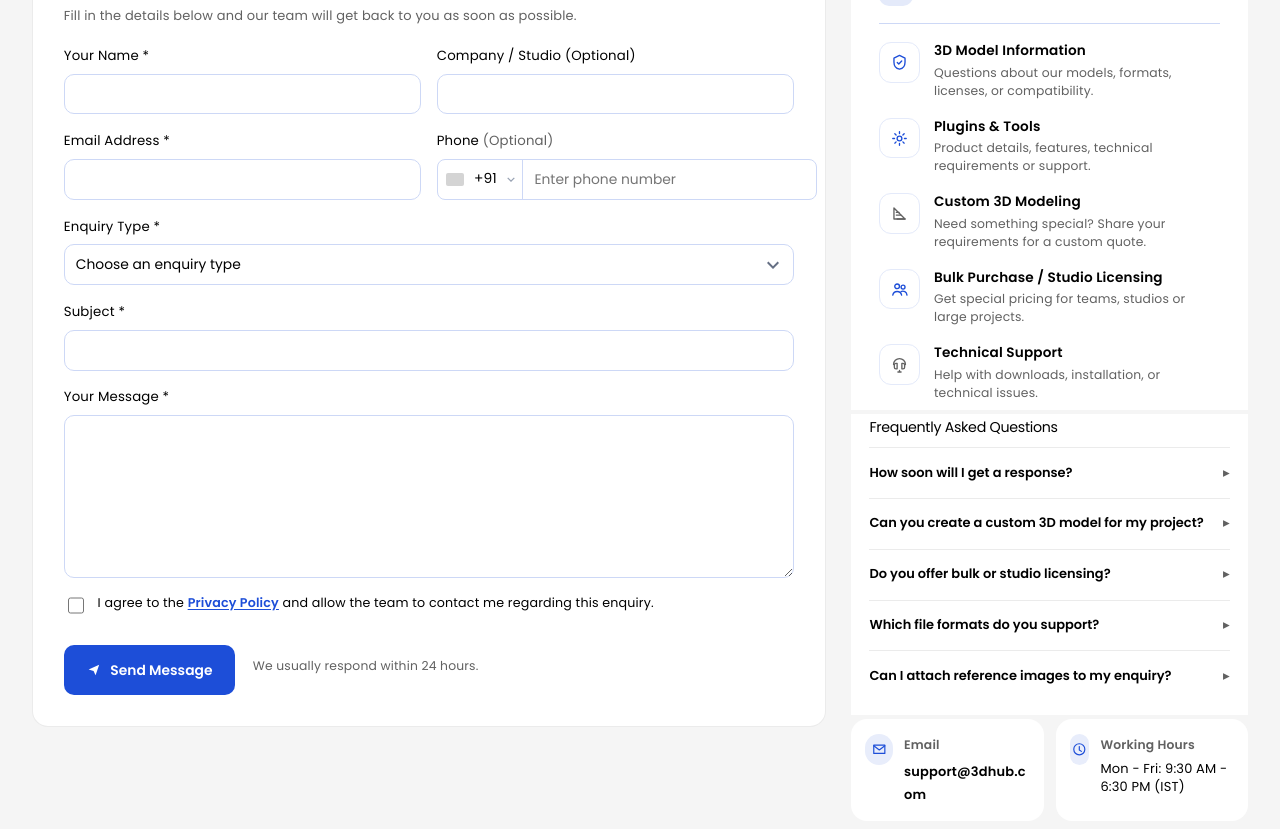
Scenario: ContactPage › toggles FAQ answers
(page scrolled)
Step 1. Click the button "Can you create a custom 3D model for my project? ▸" → (1050, 524), box [869,499,1230,549]
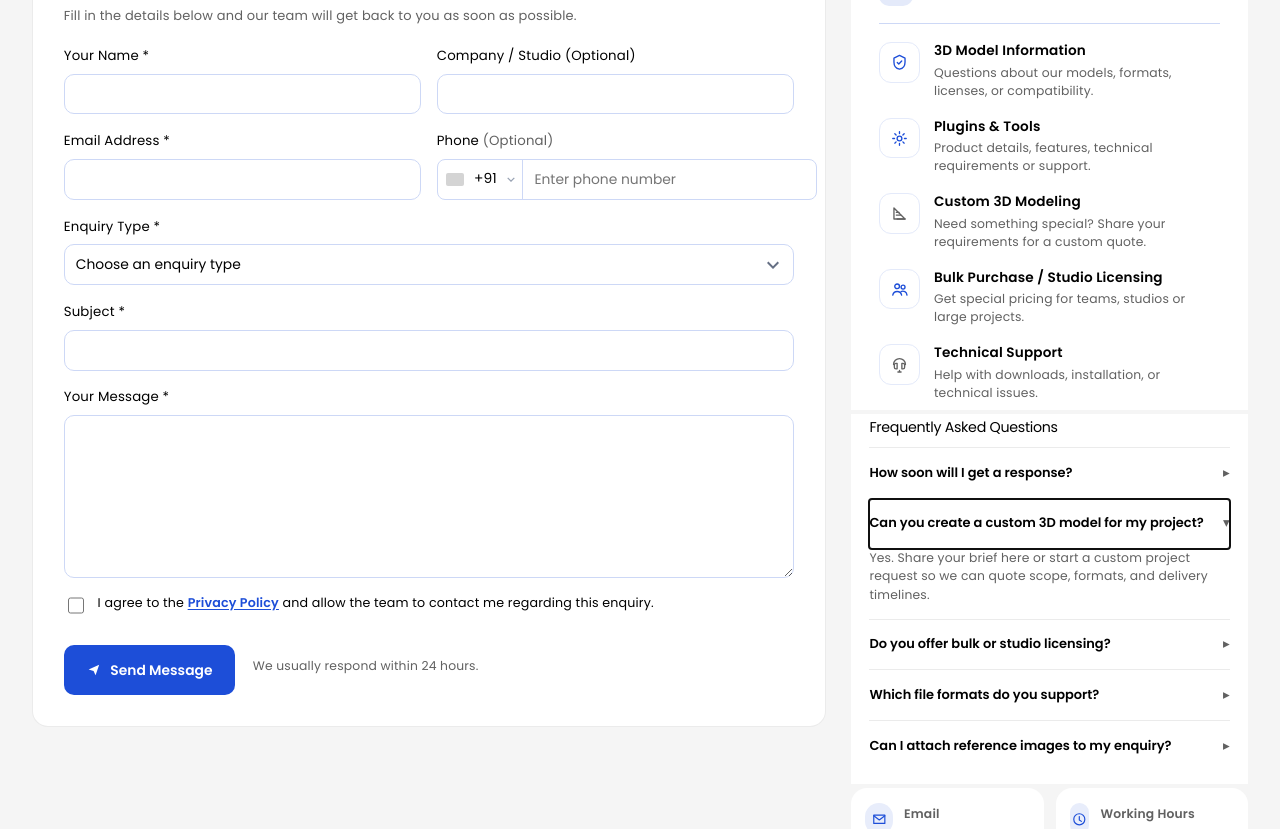
Now the text "Share your brief here or start a custom project request" is shown, box [869,549,1208,603]
